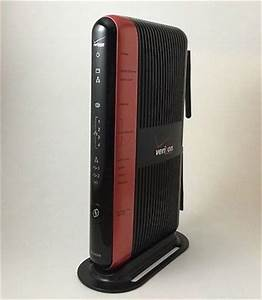Verizon Router: (70, 12, 207, 295)
